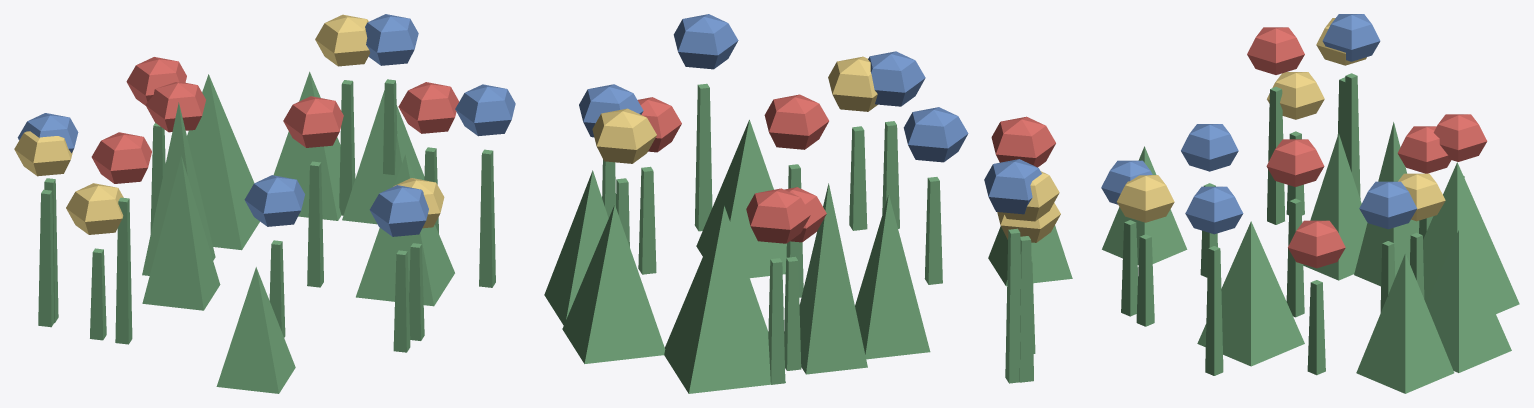
Rendered from flower-patch.glb.
3 renders of one model, left to right at view 1: azimuth 30°, elevation 25°; view 2: azimuth 150°, elevation 25°; view 3: azimuth 270°, elevation 25°, orthographic. The views are drawn at different scales.
Parts seen in each view (by area): view 1: flower-patch; view 2: flower-patch; view 3: flower-patch.
Boxes of the visible parts, x1,y1,x2,y2 form: flower-patch: (14,14,515,393); flower-patch: (544,14,1072,393); flower-patch: (1101,14,1519,393).
Bounding box in the file's own units: 1.56 × 0.6971 × 1.37.
